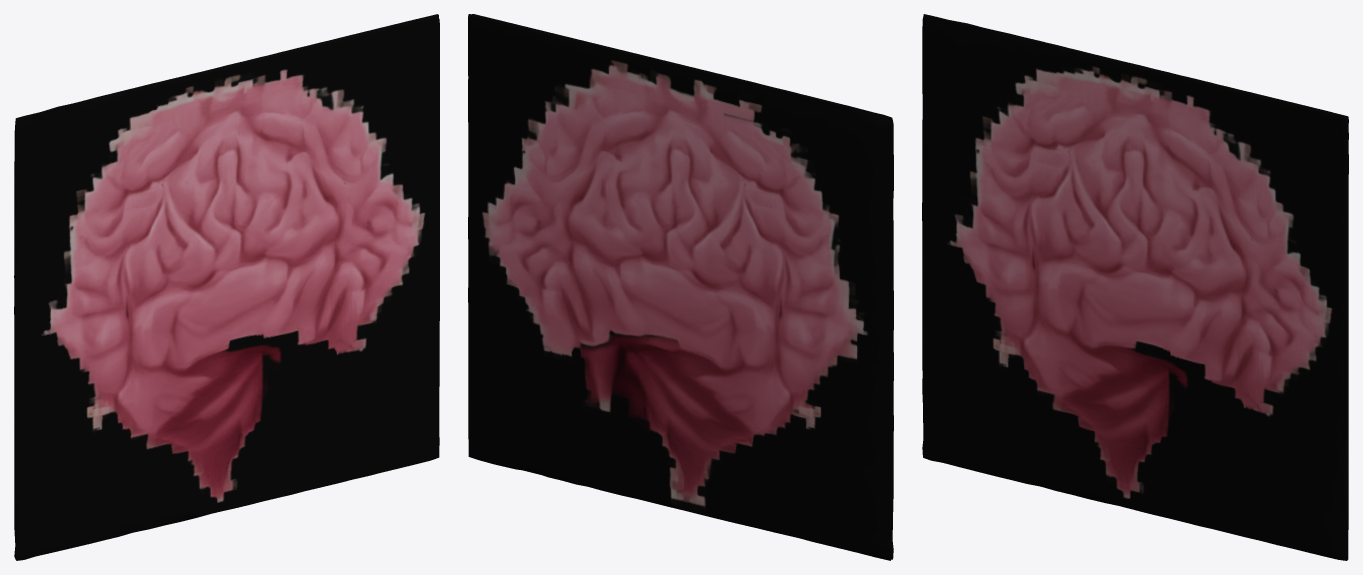
The model's file is brain_glb.glb.
3 renders of one model, left to right at view 1: azimuth 30°, elevation 25°; view 2: azimuth 150°, elevation 25°; view 3: azimuth 330°, elevation 25°, orthographic.
Parts seen in each view (by area): view 1: world; view 2: world; view 3: world.
Boxes of the visible parts, bbox=[...] form: world: bbox=[14, 14, 439, 560]; world: bbox=[468, 14, 893, 560]; world: bbox=[922, 14, 1348, 560].
Size of the model in its own units: 0.15 by 0.15 by 0.00119.
1 material, 1 textured.
